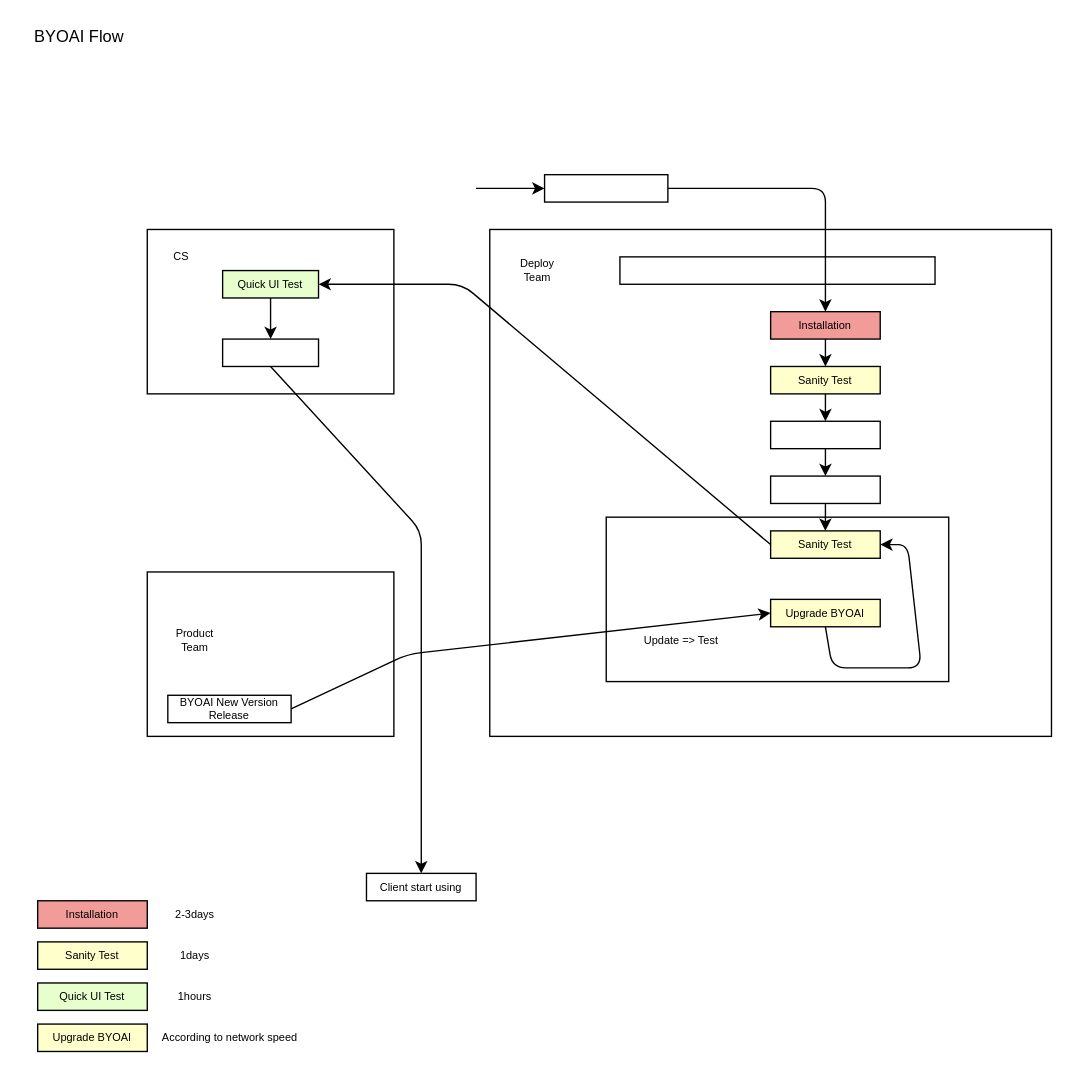
The diagram is 1075 pixels wide and 1075 high, and some of its shapes have lost their labels. The shapes that lost their labels are listed below. From the top down, each one's centre as x and y in pixels, then its label:
At point 605,187: "X1 & Storm1 Ready".
At point 777,270: "BYOAI Deploy Flow".
At point 270,352: "Present to Client".
At point 824,434: "Send to Factory".
At point 824,489: "Configure network".
